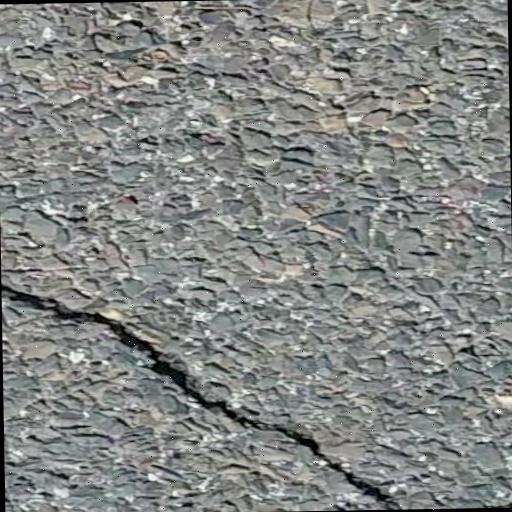spalling: (7, 278, 412, 508)
